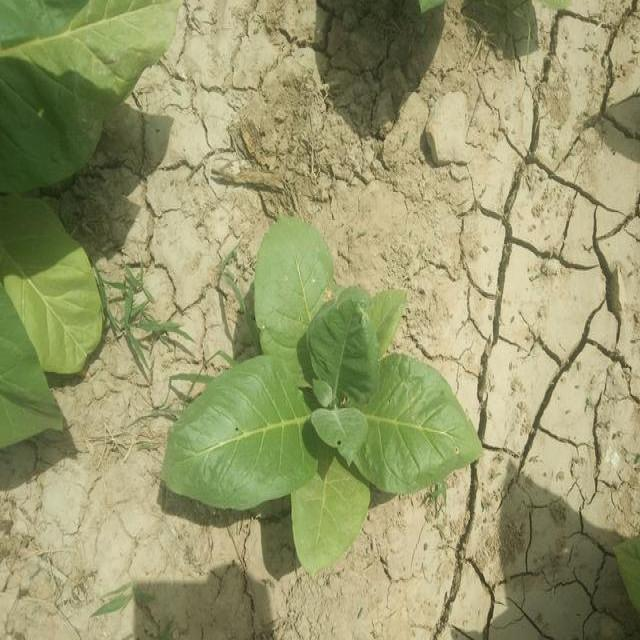crop: (197, 229, 480, 562), (2, 5, 180, 184), (0, 189, 102, 452)
